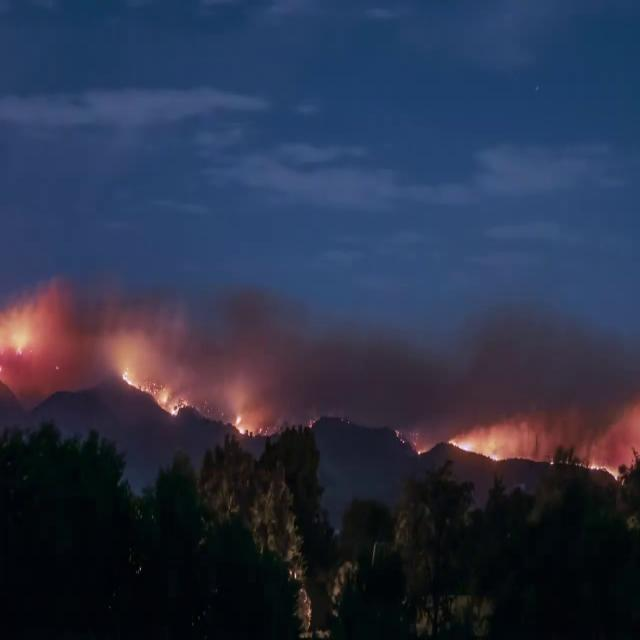Fire: (124, 362, 195, 410), (449, 428, 510, 462), (7, 298, 31, 358), (583, 453, 623, 483), (234, 406, 263, 441), (416, 448, 426, 457)
Smoke: (343, 286, 637, 474), (0, 279, 335, 424)
